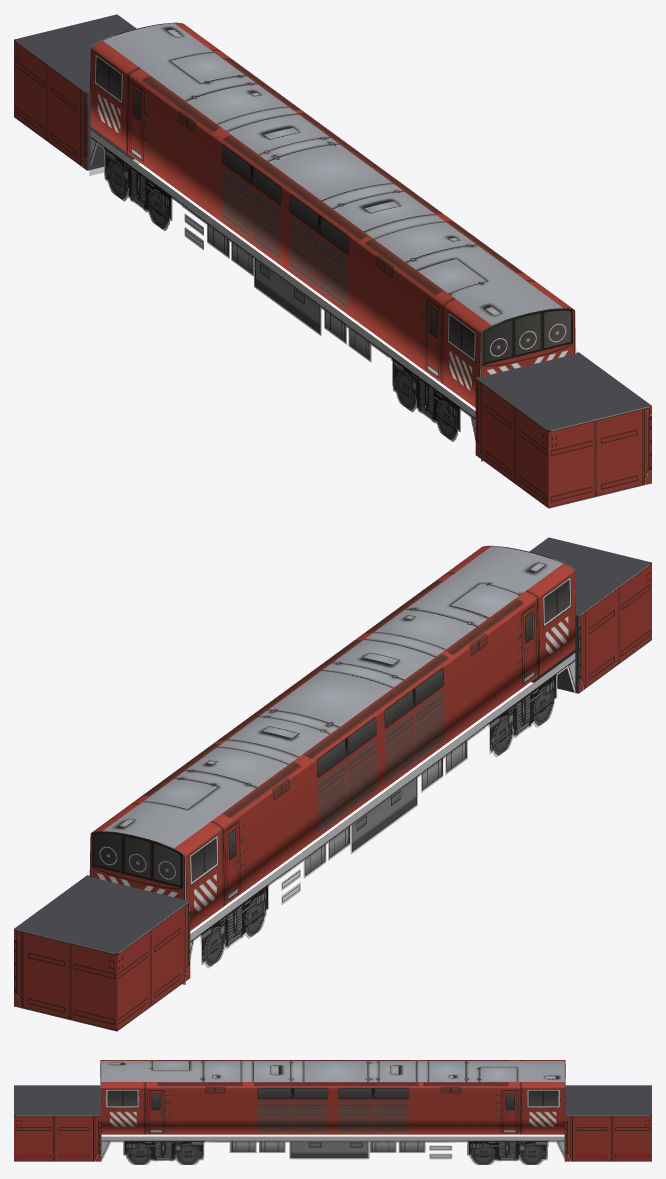
Rendered from car1.glb.
3 views of the same model, one above another, from view 1: azimuth 30°, elevation 25°; view 2: azimuth 150°, elevation 25°; view 3: azimuth 270°, elevation 25° (orthographic). The views are drawn at different scales.
Visible parts, largest first — view 1: kiya143-car1; view 2: kiya143-car1; view 3: kiya143-car1.
Part boxes in pixels (box(x1,y1,x2,y2)): kiya143-car1: box(14, 14, 651, 508); kiya143-car1: box(14, 537, 651, 1031); kiya143-car1: box(14, 1060, 651, 1164).
Bounding box in the file's own units: 2.99 × 3.76 × 26.82.
Materials: 10 (9 with a texture image).
